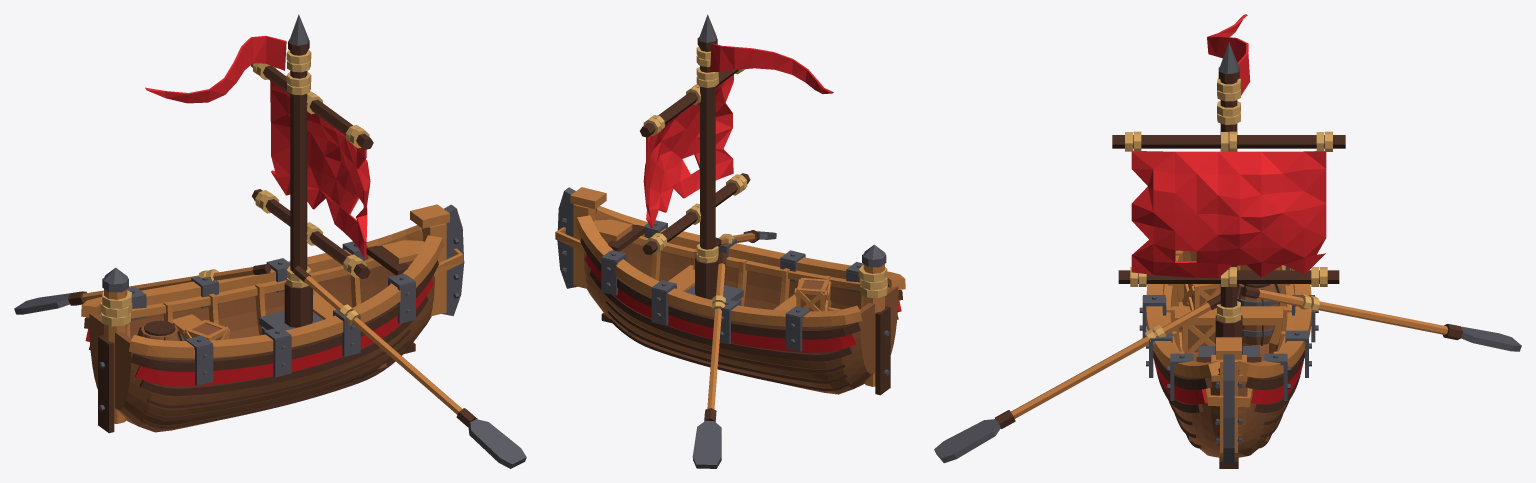
Rendered from CutthroatSkiff.fbx.
3 renders of one model, left to right at view 1: azimuth 30°, elevation 25°; view 2: azimuth 150°, elevation 25°; view 3: azimuth 270°, elevation 25°, orthographic. The views are drawn at different scales.
Parts seen in each view (by area): view 1: CutthroatSkiff; view 2: CutthroatSkiff; view 3: CutthroatSkiff.
Boxes of the visible parts, x1,y1,x2,y2 form: CutthroatSkiff: (14,14,526,468); CutthroatSkiff: (555,14,905,468); CutthroatSkiff: (934,14,1521,468).
Size of the model in its own units: 2.64 by 2.62 by 3.62.
